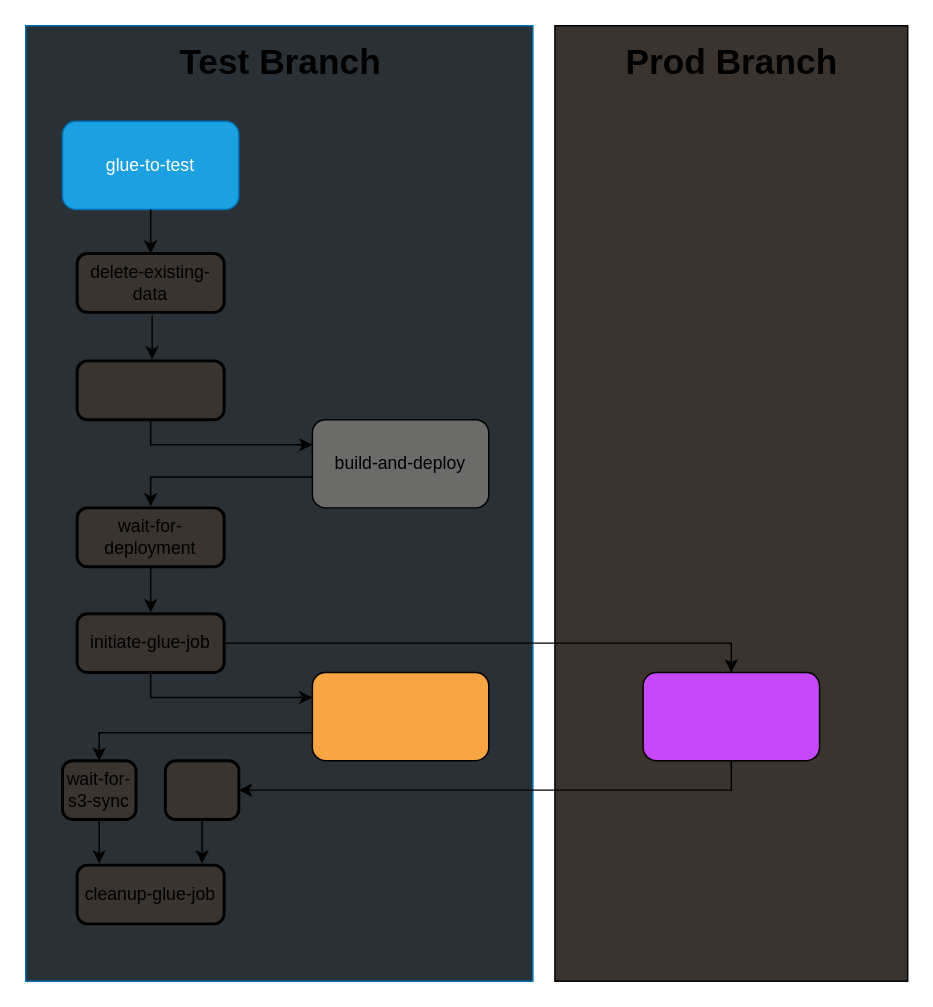
The diagram is 933 pixels wide and 1007 high, and some of its shapes have lost their labels. Here are the shapes that lost their labels. From the top down, the centre of each, then its label:
At [150,389]: "redeploy-environment".
At [400,716]: "sync-s3-to-lower-env".
At [731,716]: "glue-to-lower-env".
At [201,789]: "wait-for-glue".
